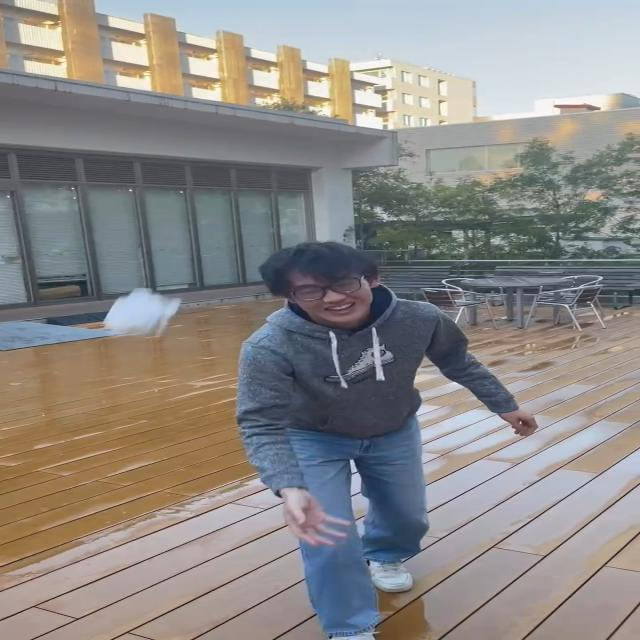paper: (103, 286, 181, 338)
